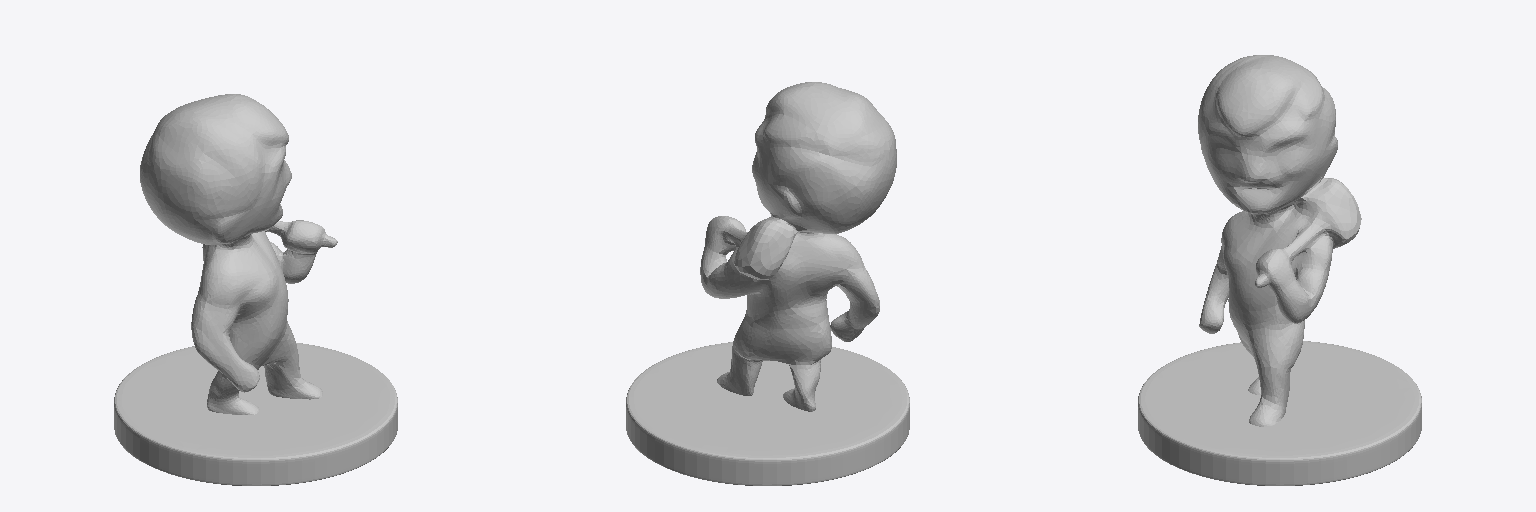
Rendered from maleWorker.obj.
The picture shows the model from 3 angles: view 1: azimuth 30°, elevation 25°; view 2: azimuth 150°, elevation 25°; view 3: azimuth 270°, elevation 25°; orthographic projection.
Parts seen in each view (by area): view 1: MaleBuilder_Blue; view 2: MaleBuilder_Blue; view 3: MaleBuilder_Blue.
Part boxes in pixels (bbox=[...]): MaleBuilder_Blue: bbox=[114, 94, 397, 485]; MaleBuilder_Blue: bbox=[626, 82, 909, 485]; MaleBuilder_Blue: bbox=[1138, 55, 1421, 485].
Size of the model in its own units: 1.29 by 1.71 by 1.29.